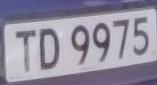5: (130, 13, 153, 62)
7: (110, 16, 134, 62)
9: (67, 18, 94, 71), (90, 19, 113, 66)
D: (36, 22, 64, 77)
T: (12, 25, 38, 79)
